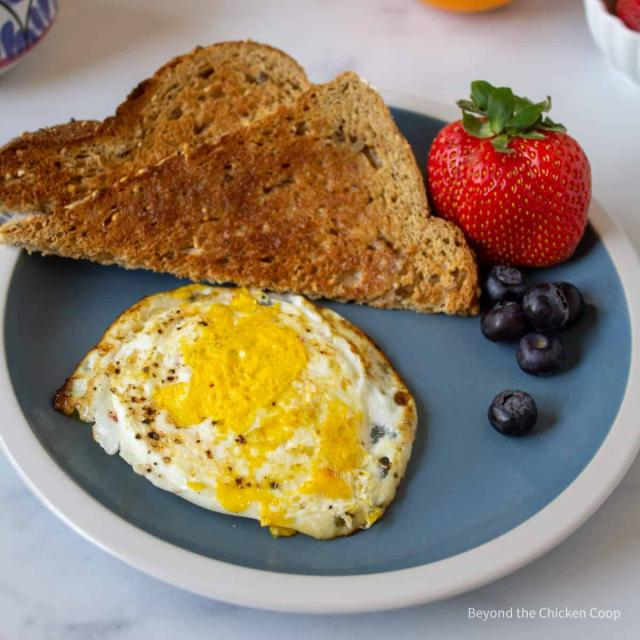Bread: (0, 72, 480, 315), (0, 41, 310, 214)
Egg: (55, 284, 418, 539)
